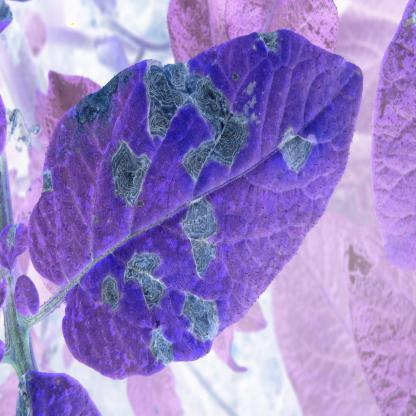potato leaf early blight: (24, 24, 366, 378)
